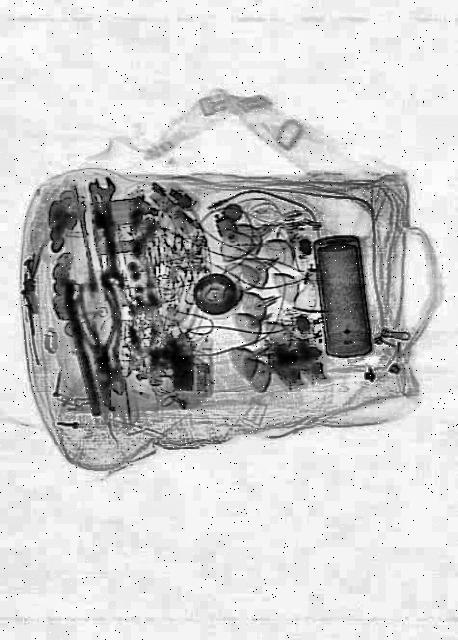Pliers: (63, 274, 141, 408), (68, 275, 126, 415)
Wrench: (88, 176, 126, 300)
